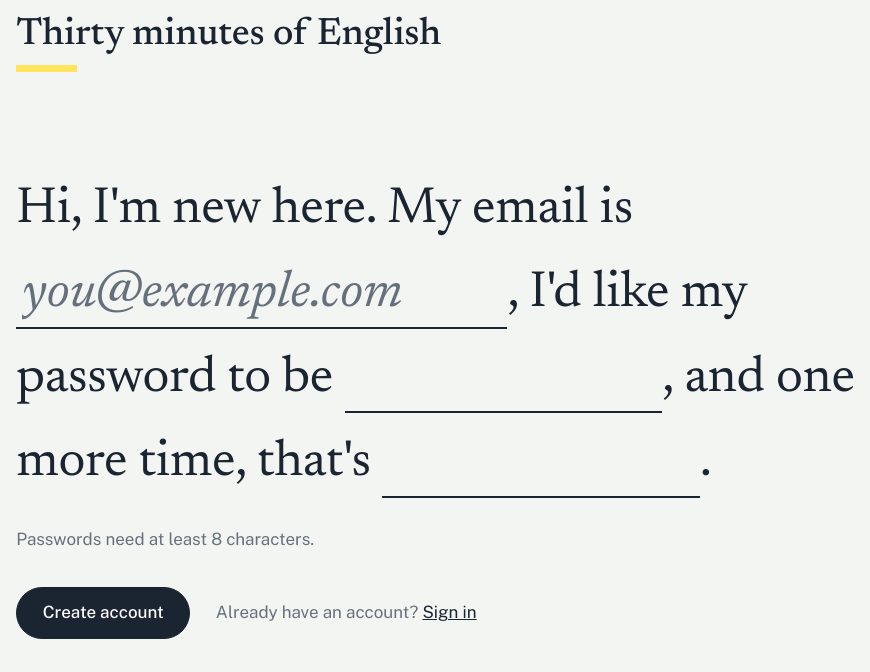
a signup the server refuses shows why
Type "mina@example.com" into the field named "Email" at point(262, 296), box [16,264,508,329]
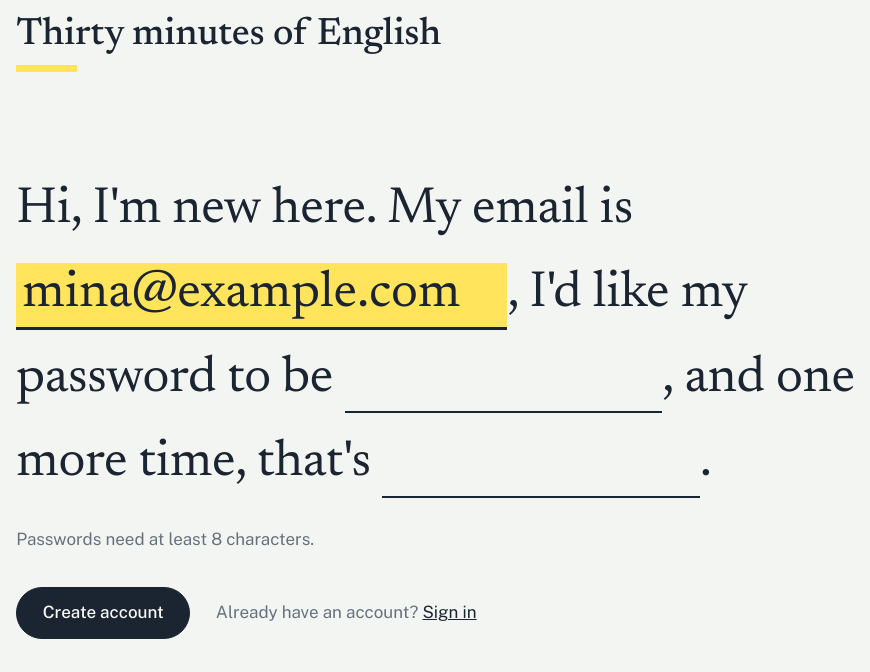
Type "12345678" into the 1st password field named "Password" at point(504, 380), box [345,348,662,413]
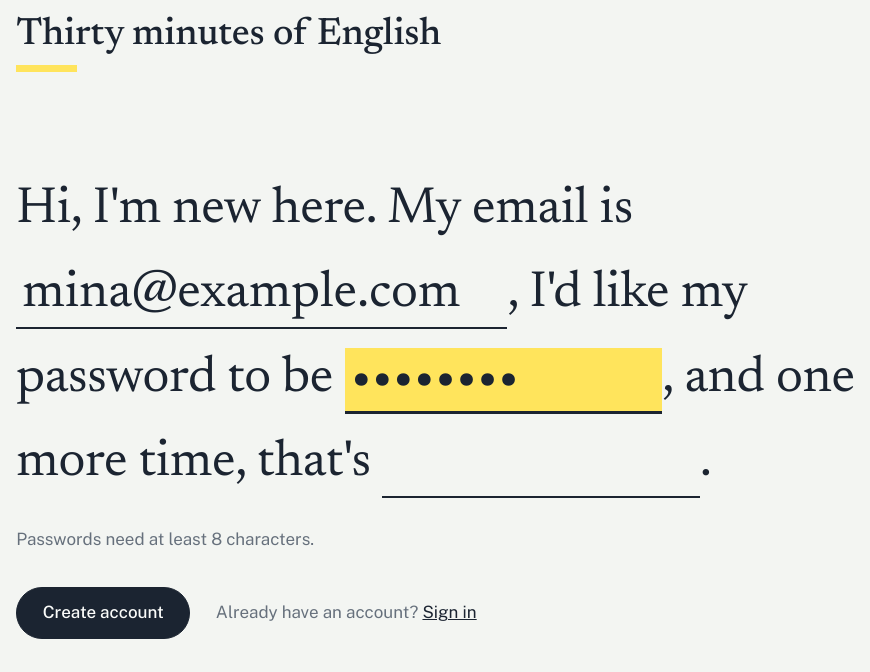
Type "12345678" into the 2nd password field named "Confirm password" at point(541, 465), box [382,432,700,498]
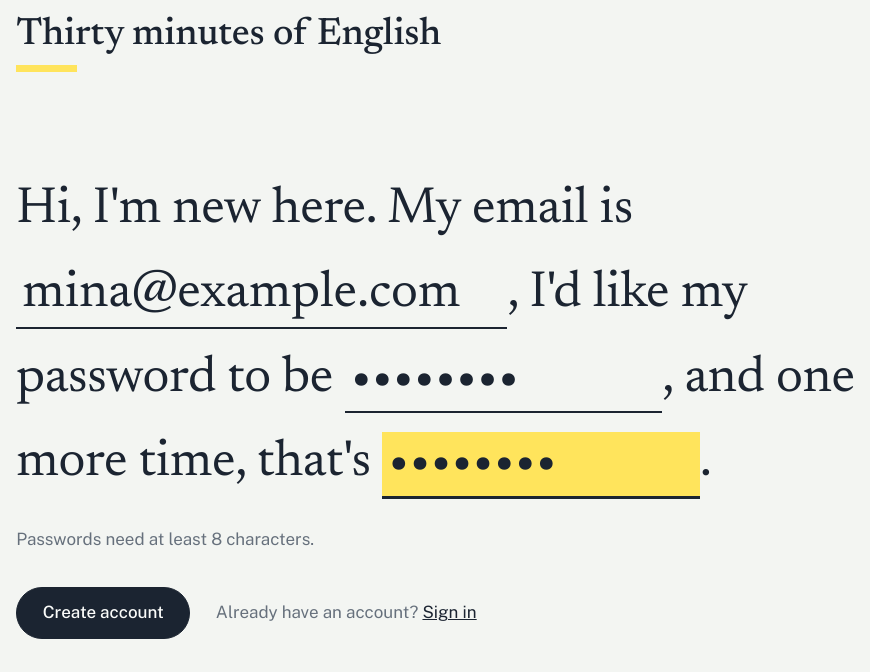
Click the button "Create account" at point(103, 613), box [16,587,190,639]
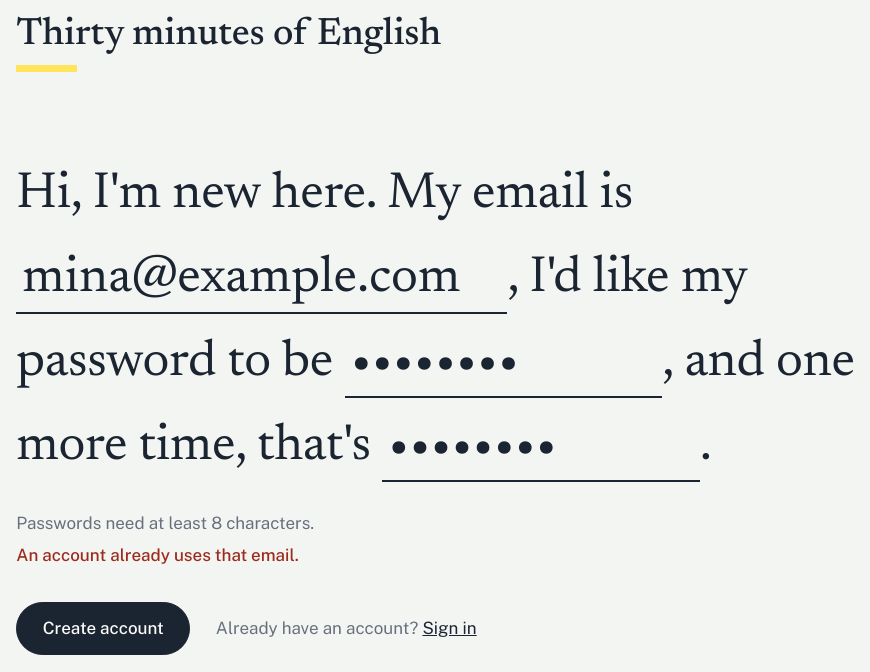
Result: the message reads "An account already uses that email." at [16,545,299,565]
